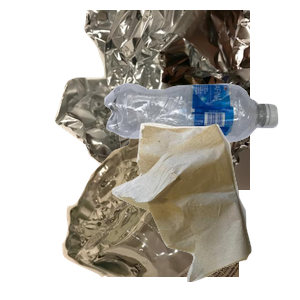glass: (60, 120, 300, 300)
metal: (52, 10, 292, 190)
plastic: (102, 81, 300, 216)
trash: (109, 120, 300, 300)
